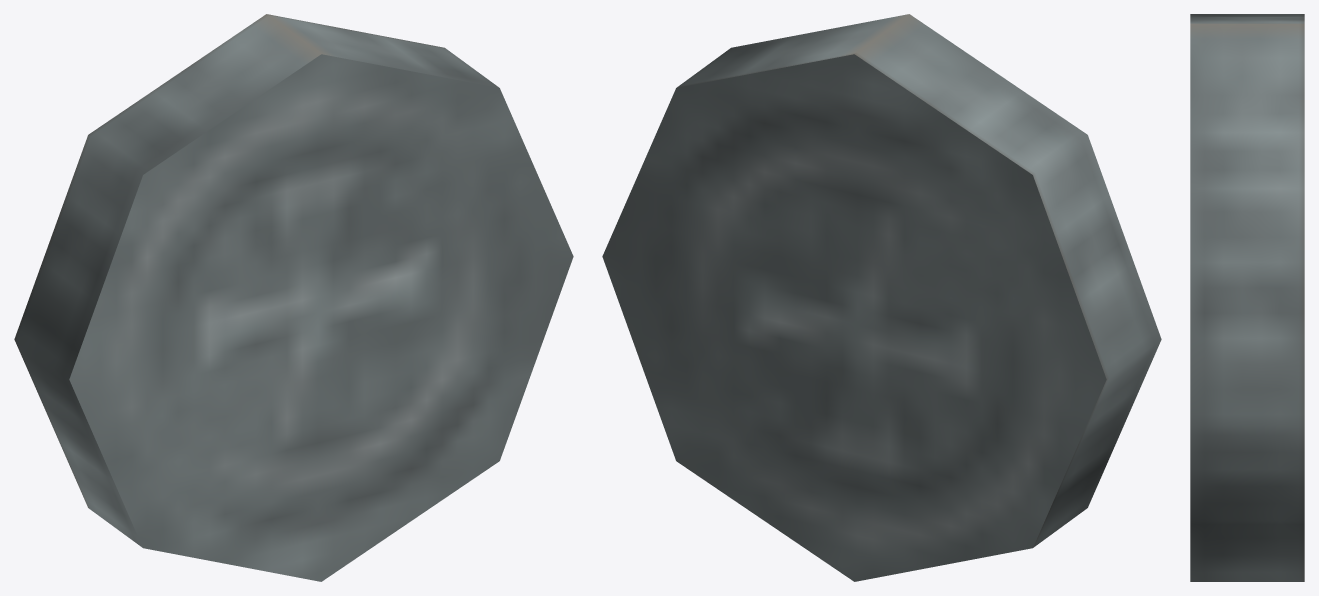
Rendered from Coin_Silver.fbx.
The picture shows the model from 3 angles, left to right: view 1: azimuth 30°, elevation 25°; view 2: azimuth 150°, elevation 25°; view 3: azimuth 270°, elevation 25°; orthographic projection. The views are drawn at different scales.
Visible parts, largest first — view 1: Coin_Silver; view 2: Coin_Silver; view 3: Coin_Silver.
Part boxes in pixels (box(x1,y1,x2,y2)): Coin_Silver: box(14, 14, 573, 581); Coin_Silver: box(602, 14, 1161, 581); Coin_Silver: box(1190, 14, 1304, 581).
Size of the model in its own units: 0.1707 by 0.1707 by 0.0322.
